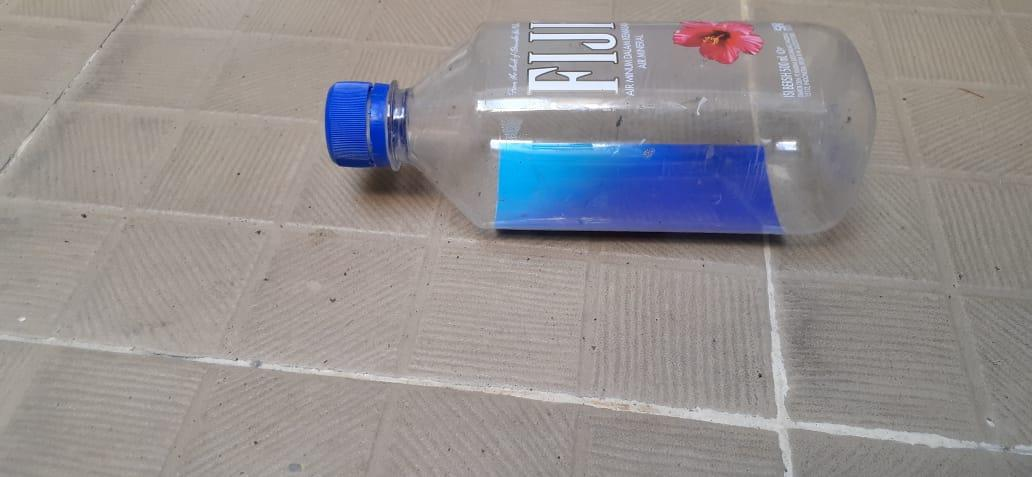Plastik: (324, 20, 876, 238)
